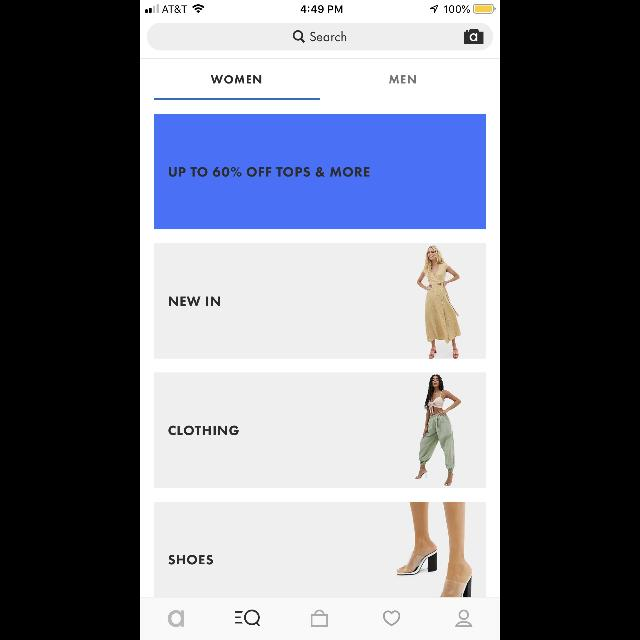icon: (236, 610, 260, 626), (384, 610, 401, 626), (312, 610, 328, 626), (456, 610, 472, 626), (293, 31, 305, 43)
image: (396, 502, 472, 596), (414, 374, 462, 488), (417, 245, 461, 358), (464, 30, 484, 44)
input: (147, 23, 493, 51)
text: (169, 167, 369, 177), (169, 425, 239, 435), (170, 296, 220, 306), (169, 554, 213, 564), (211, 76, 261, 84), (310, 32, 346, 42), (168, 610, 185, 628), (390, 76, 416, 84)
uppertaskbar: (140, 0, 500, 14)
